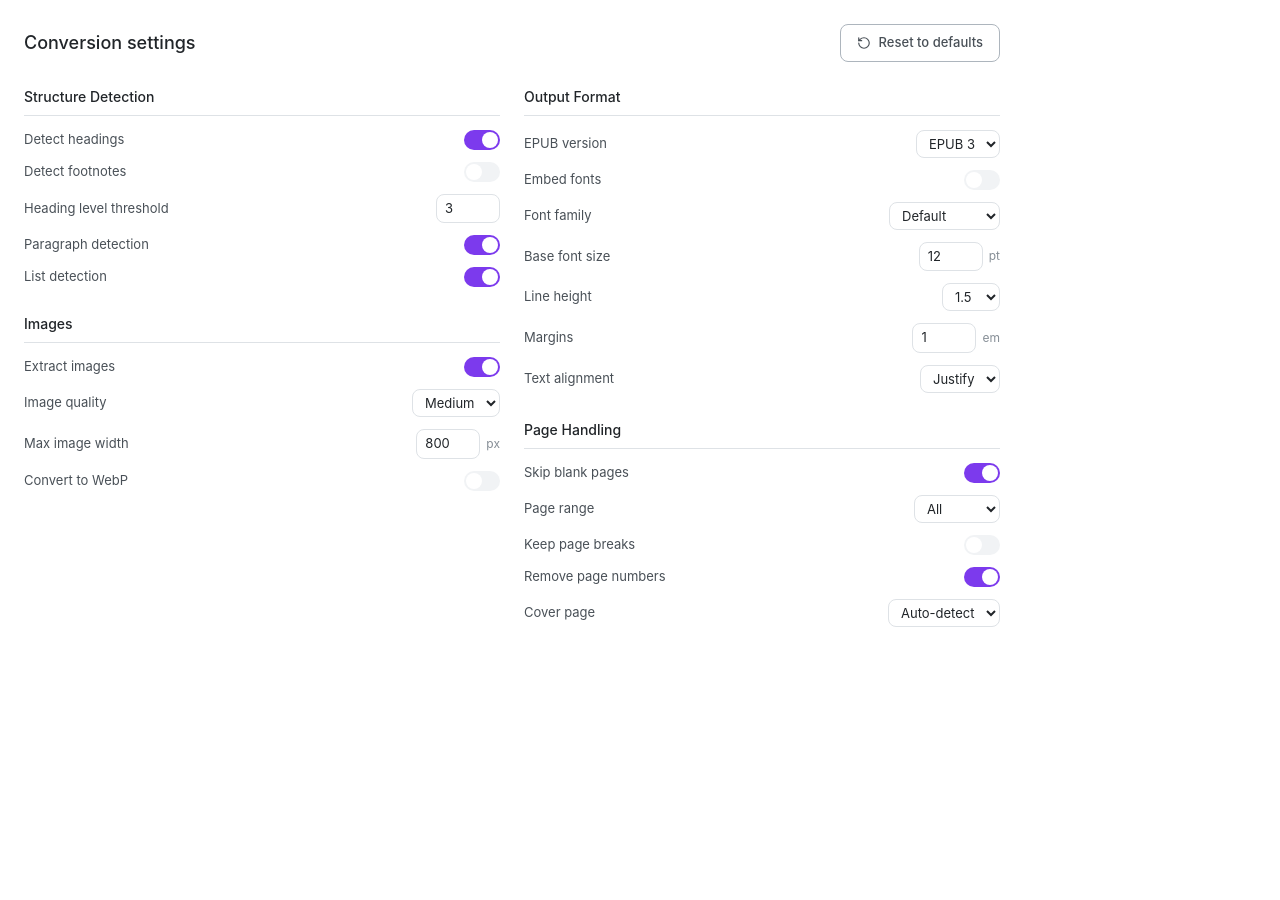
it: SettingsScreen › "Reset to defaults" button shows confirmation dialog
This screenshot has width=1280, height=900.
Click the button "Reset to defaults": (920, 43) [840, 24, 1000, 62]
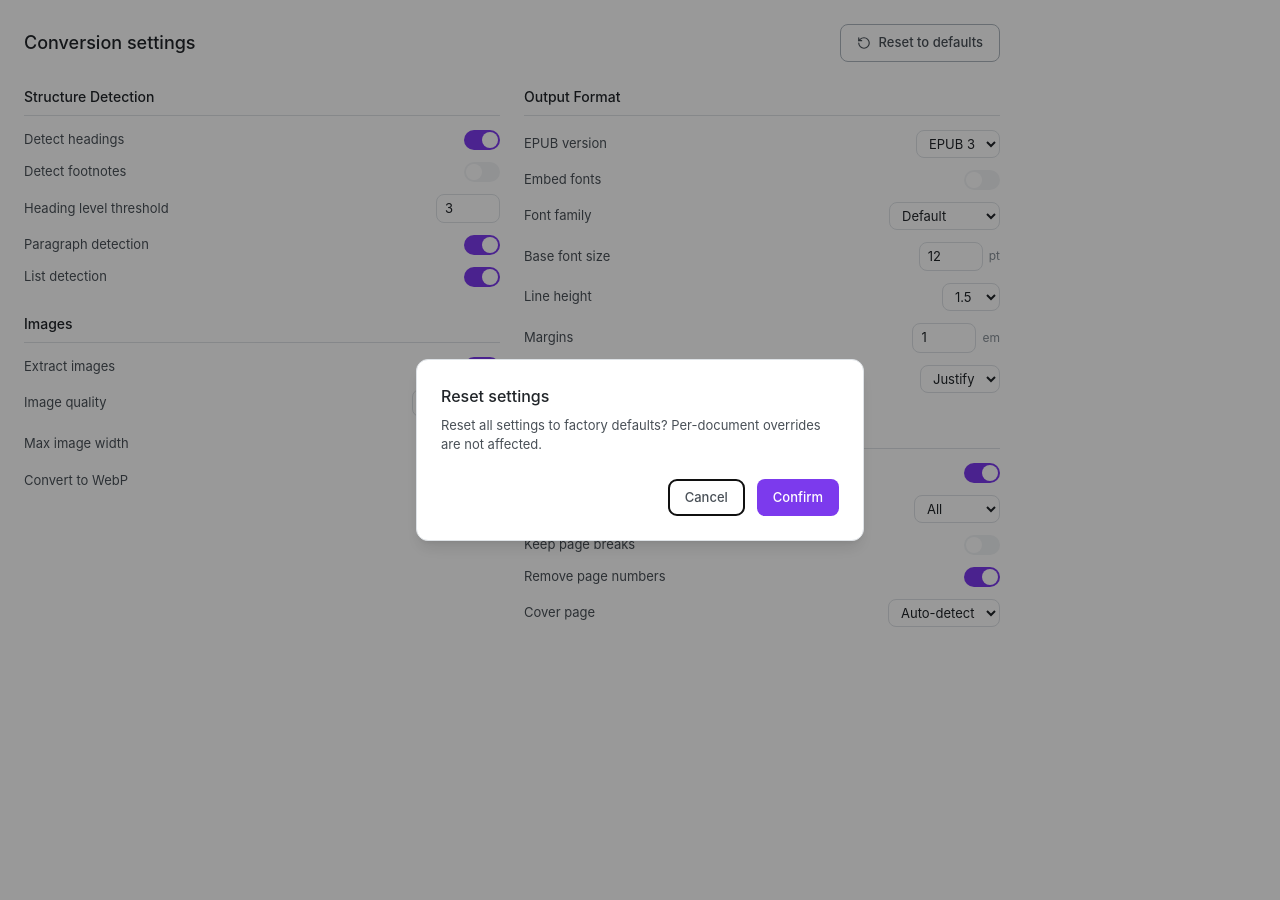
Now the dialog is shown, box [416, 359, 864, 541]
Now the text "Reset all settings to factory defaults? Per-document overrides are not affected." is shown, box [441, 416, 839, 455]
